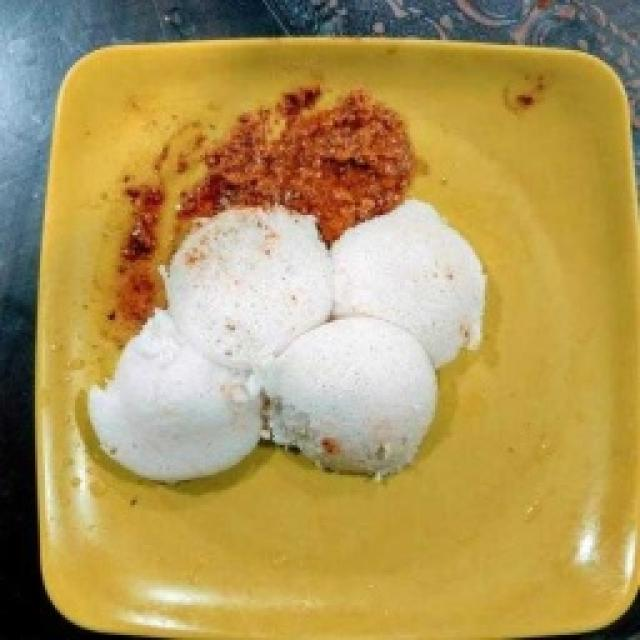idli: (90, 200, 480, 478)
